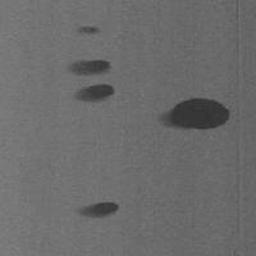Oil spot: (156, 96, 232, 132), (70, 82, 115, 104), (73, 200, 120, 221), (65, 58, 113, 78), (73, 24, 102, 37)
